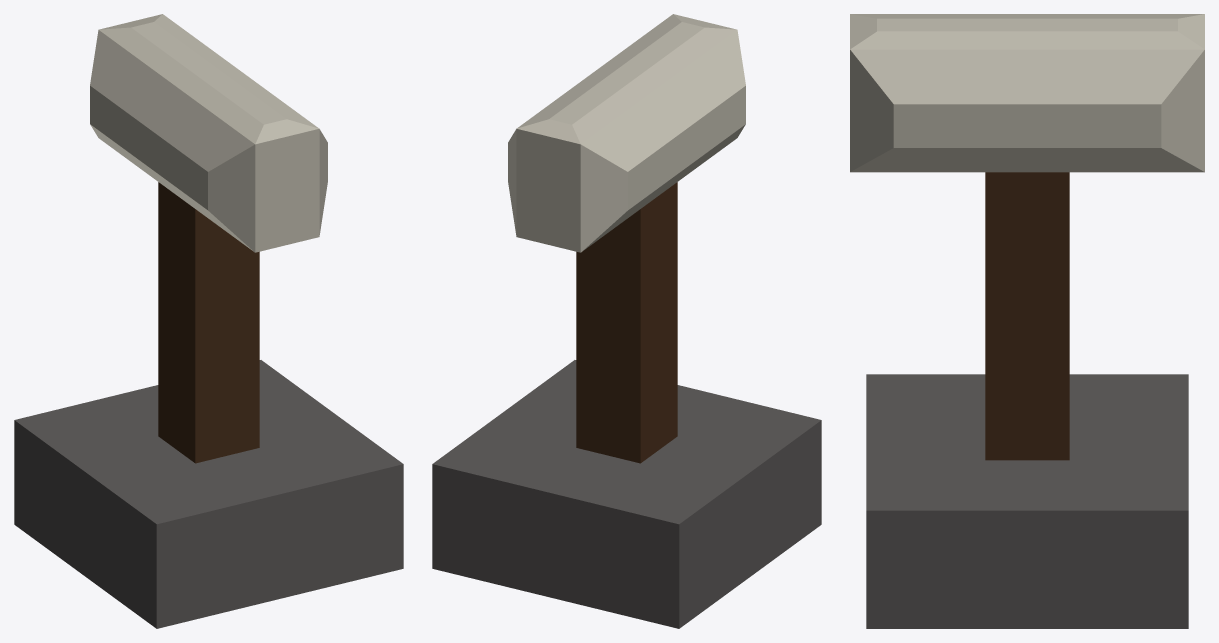
Rendered from Statue_Hammer.FBX.
3 views of the same model, side by side, from view 1: azimuth 30°, elevation 25°; view 2: azimuth 150°, elevation 25°; view 3: azimuth 270°, elevation 25° (orthographic). The views are drawn at different scales.
Visible parts, largest first — view 1: Statue_Hammer; view 2: Statue_Hammer; view 3: Statue_Hammer.
Part boxes in pixels (x1,y1,x2,y2): Statue_Hammer: (14, 14, 403, 628); Statue_Hammer: (432, 14, 821, 628); Statue_Hammer: (850, 14, 1204, 628).
Size of the model in its own units: 8.88 by 16.27 by 9.76.
